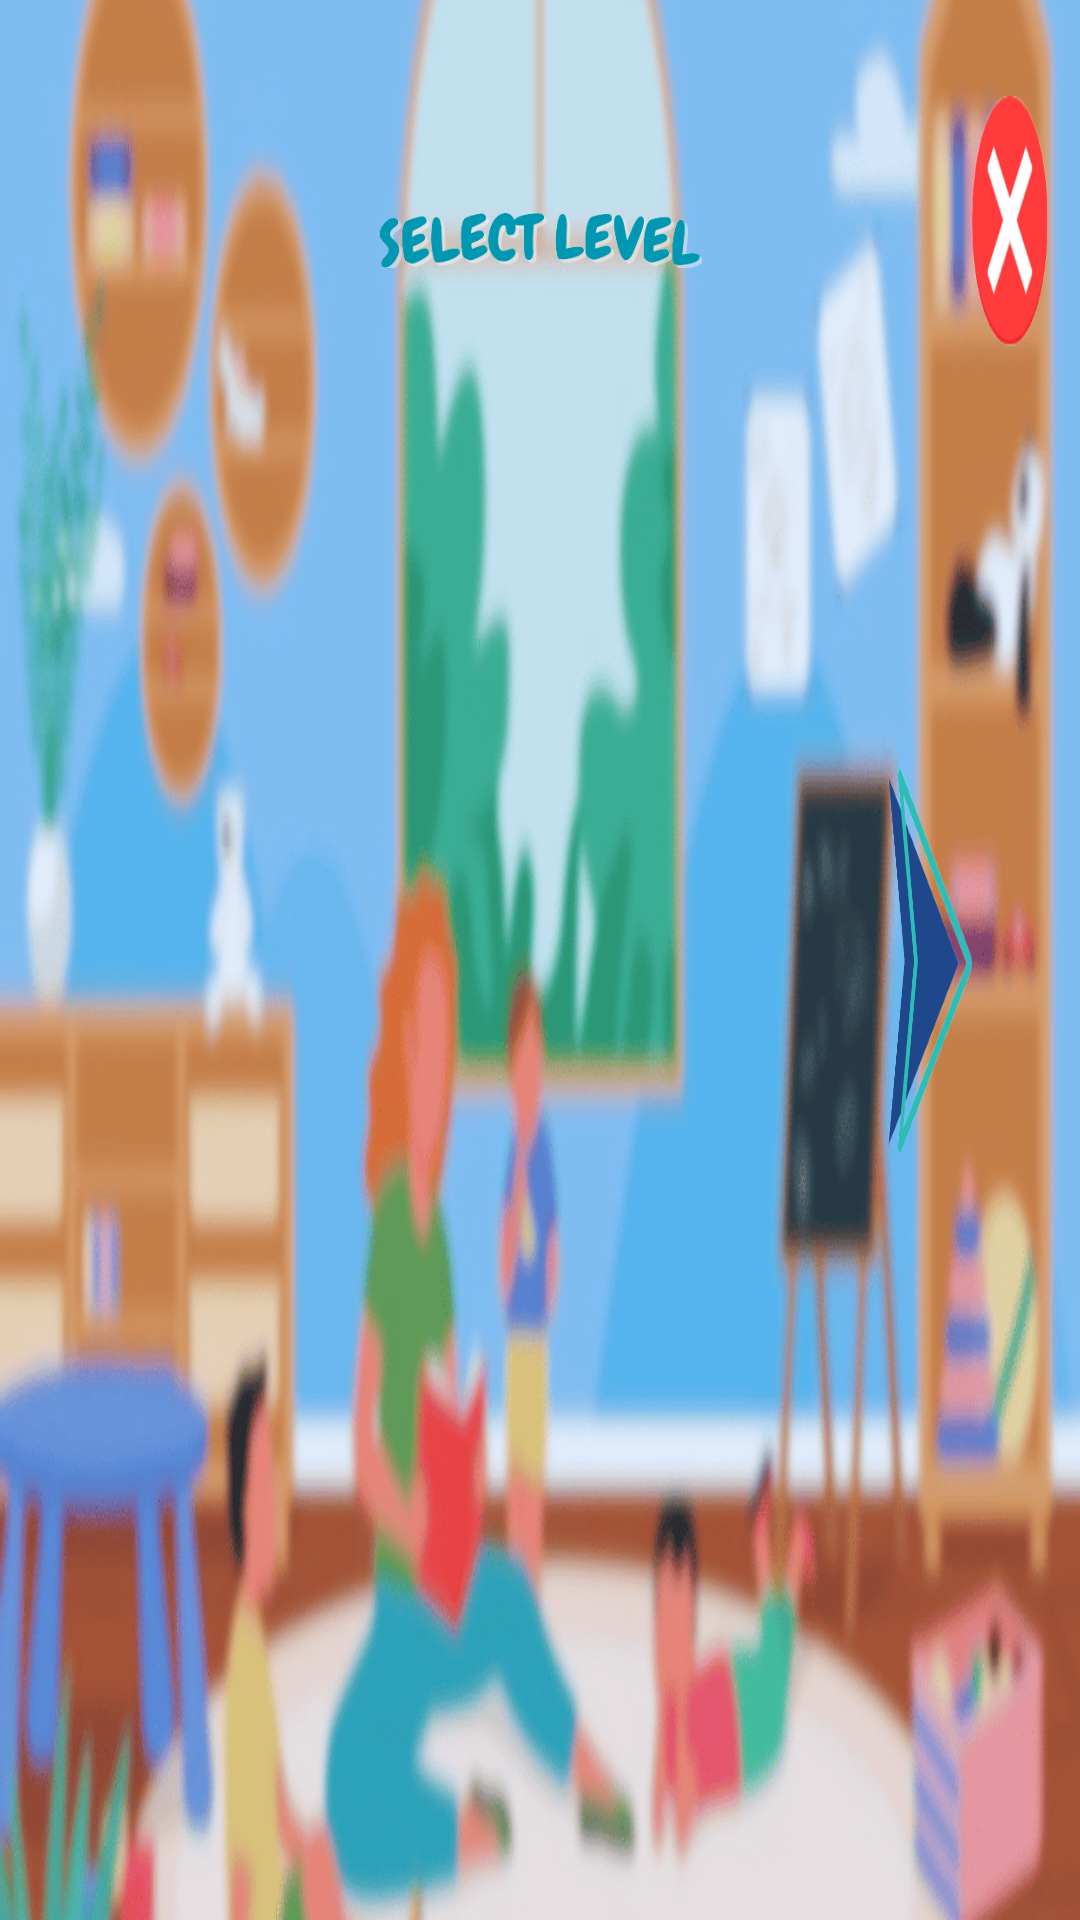

Icon click points for this 1080*1920 phone screenshot, format (x=x, y=y):
Close Button: (x=1010, y=221)
